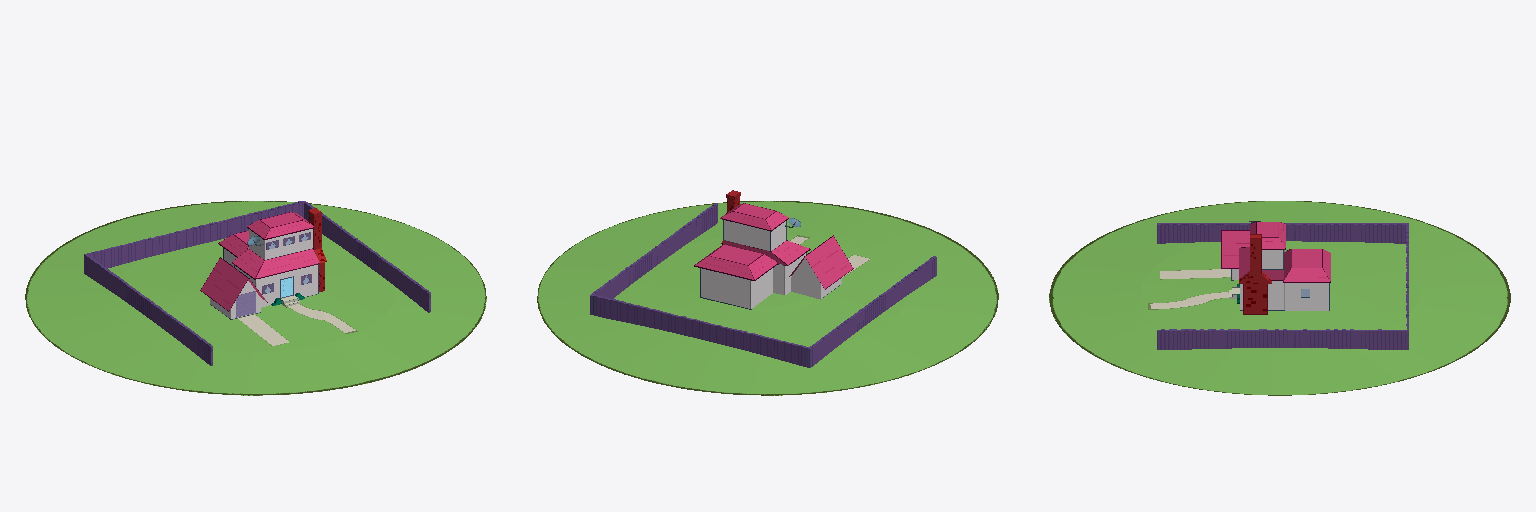
3 renders of one model, left to right at view 1: azimuth 30°, elevation 25°; view 2: azimuth 150°, elevation 25°; view 3: azimuth 270°, elevation 25°, orthographic.
Visible parts, largest first — view 1: polySurface9; view 2: polySurface9; view 3: polySurface9.
Part boxes in pixels (bbox=[...]): polySurface9: bbox=[25, 201, 486, 395]; polySurface9: bbox=[537, 190, 998, 395]; polySurface9: bbox=[1049, 201, 1510, 395].
Size of the model in its own units: 168 by 33.93 by 168.
Materials: 31 (18 with a texture image).